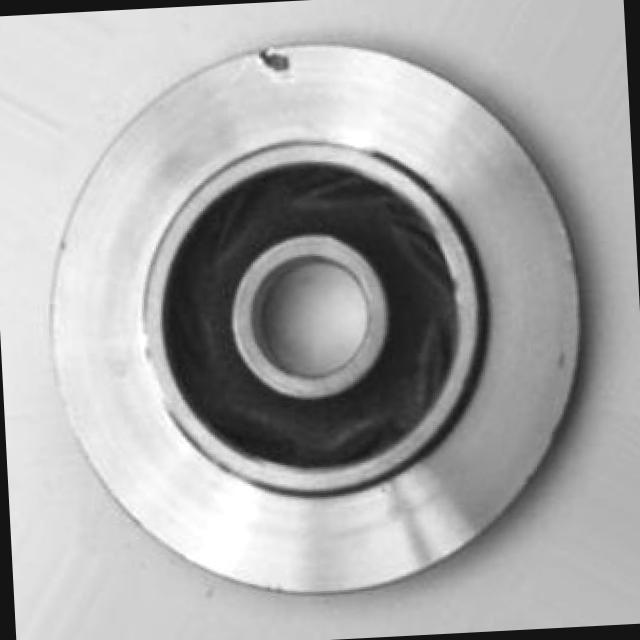Defect: (256, 45, 302, 80)
